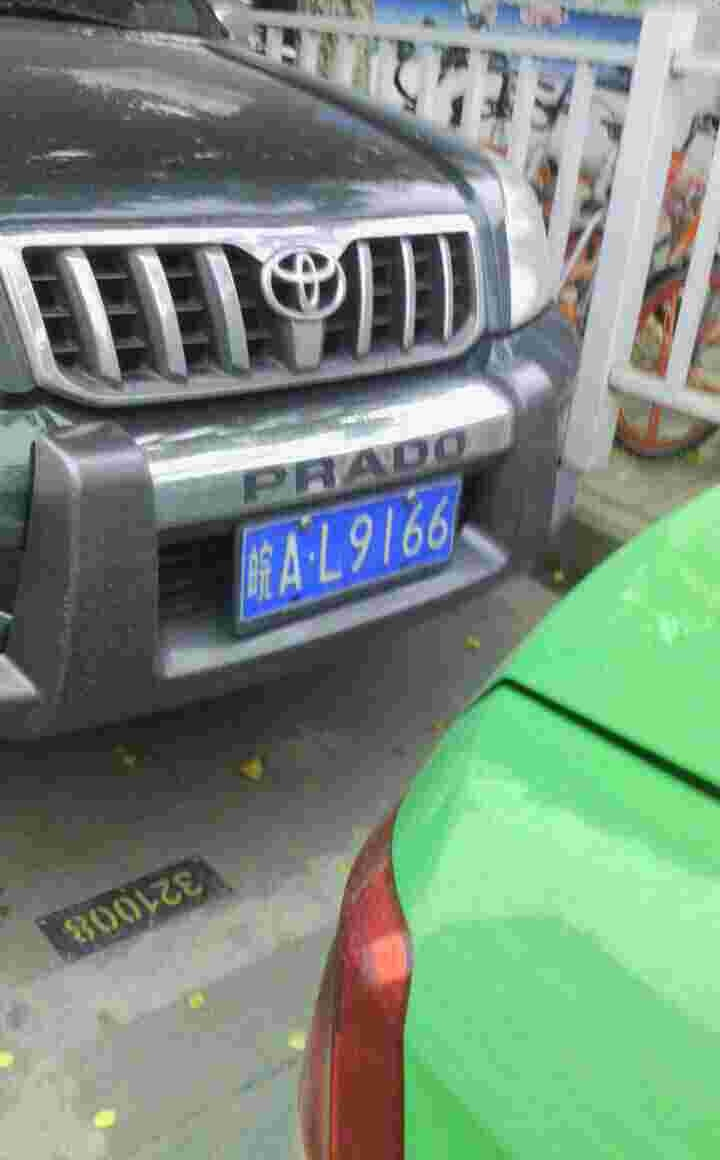license_plate: (238, 480, 465, 617)
